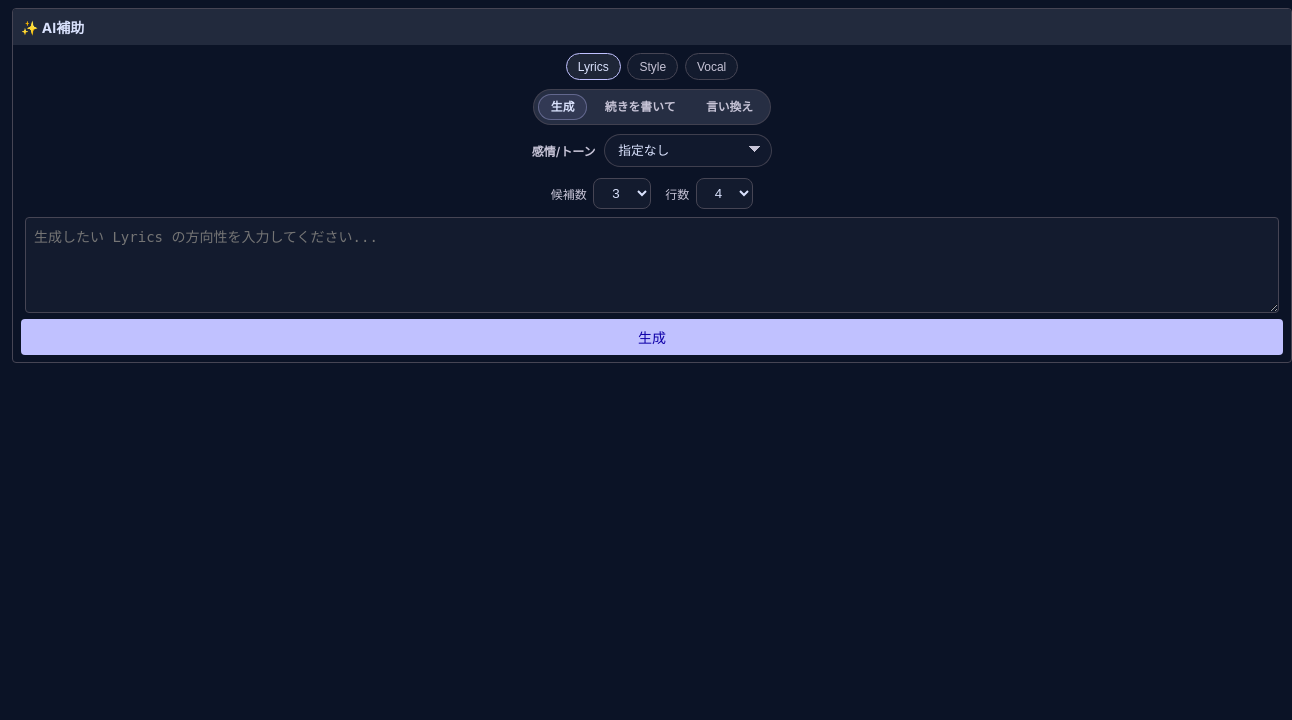
Test: LLMAssistPanel › clipboard operations › should copy candidate text
Click the button "生成": (652, 337) [21, 319, 1283, 355]
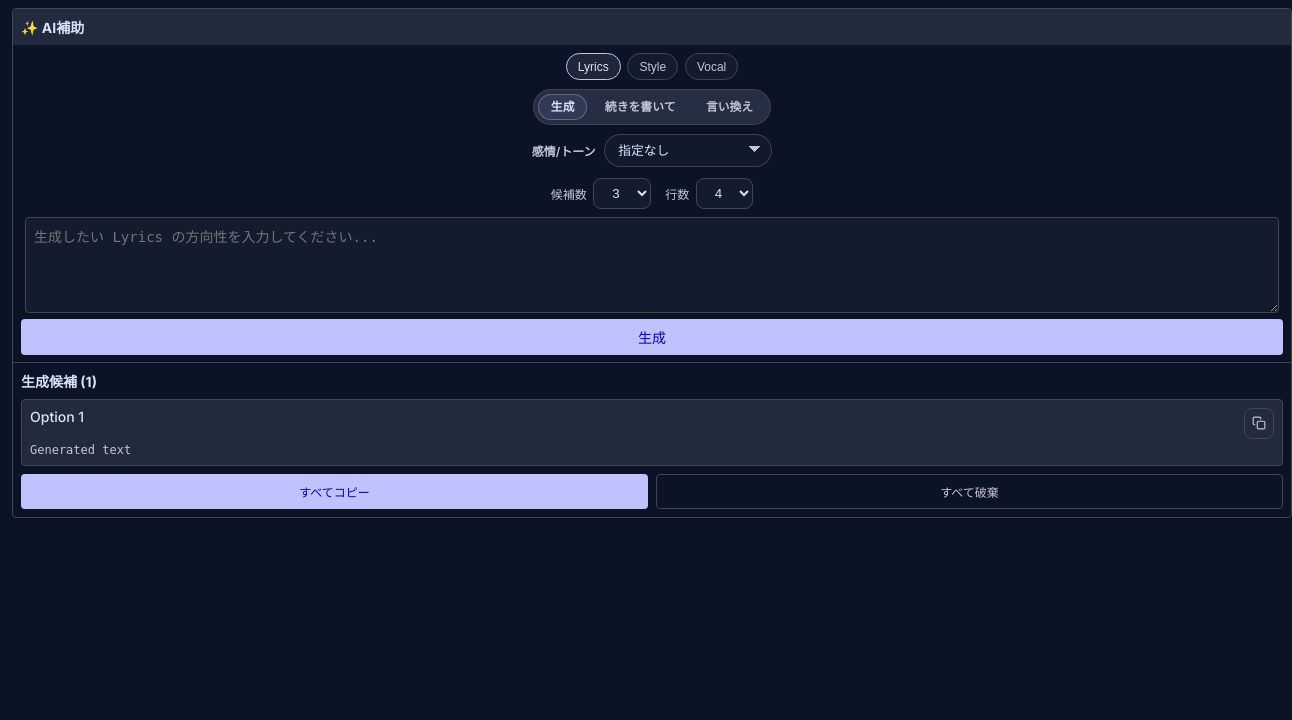
expect the button titled "選択をコピー" is shown: met
Click the button titled "選択をコピー": (1259, 423) [1244, 408, 1274, 439]
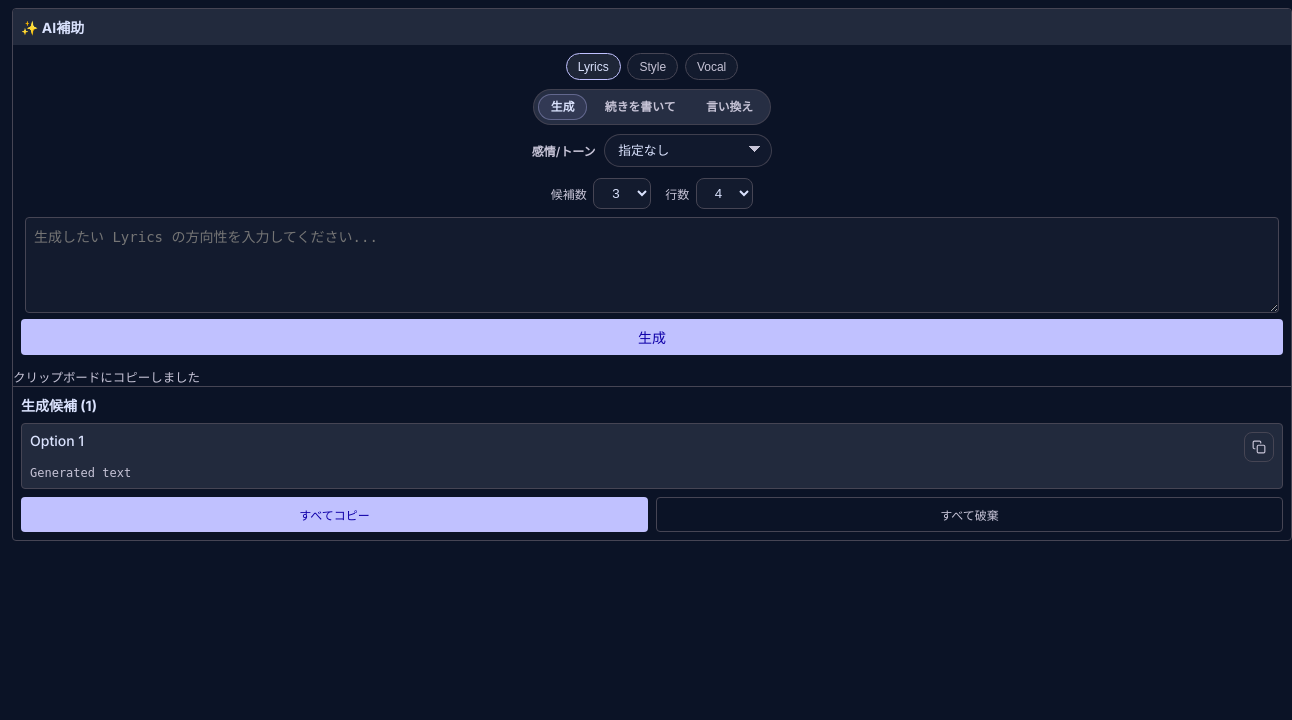
expect the text "クリップボードにコピーしました" is shown: met, box [13, 370, 200, 385]
